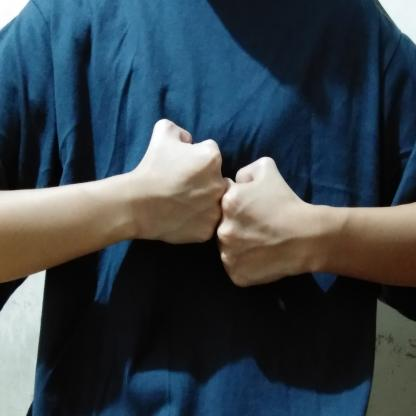brother: (119, 107, 327, 299)
